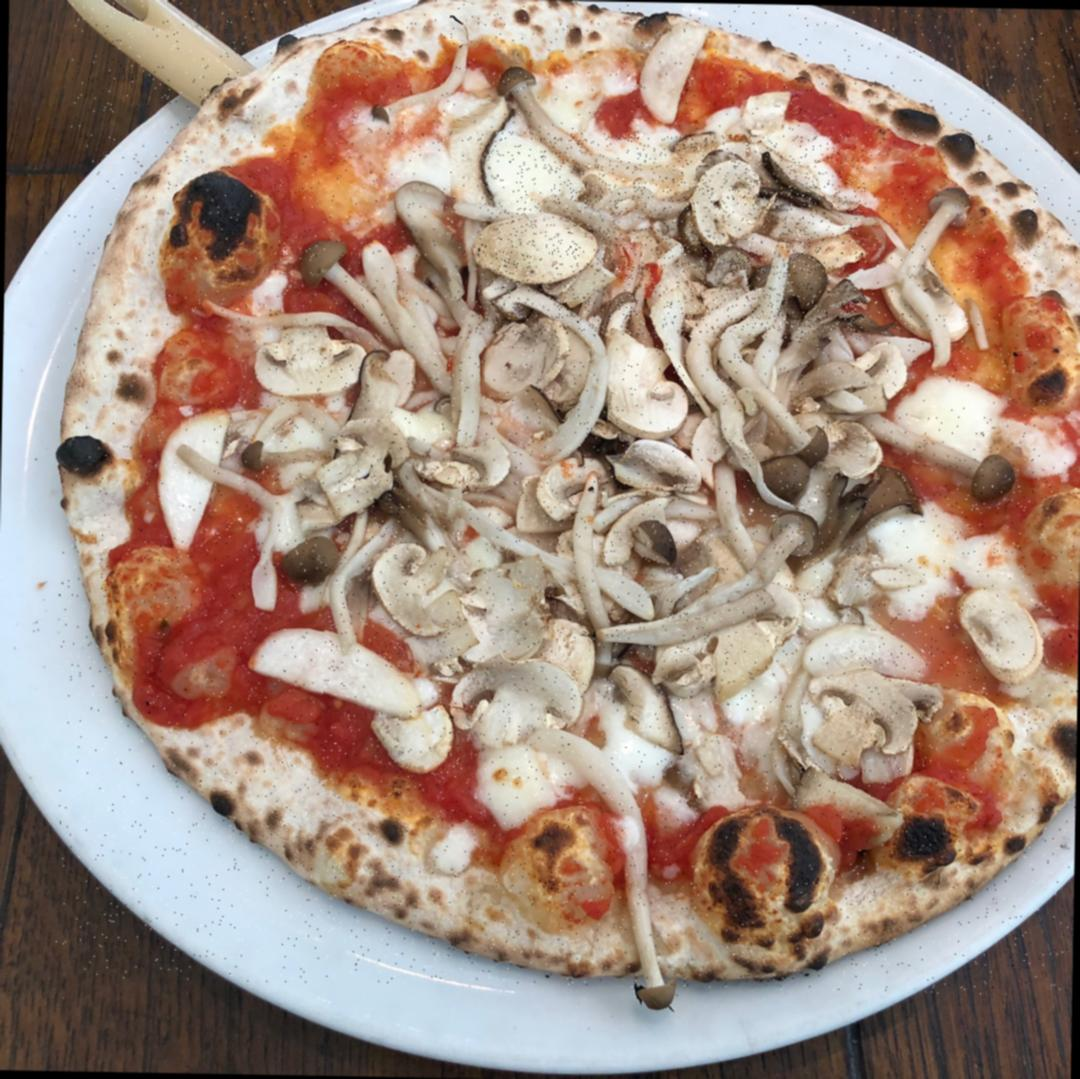Mushroom: (265, 330, 1024, 586), (322, 575, 942, 764), (475, 130, 867, 344)
Pizza: (55, 0, 1080, 995)
